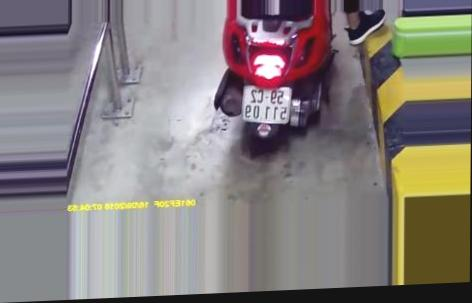License_Plate: (239, 81, 296, 128)
